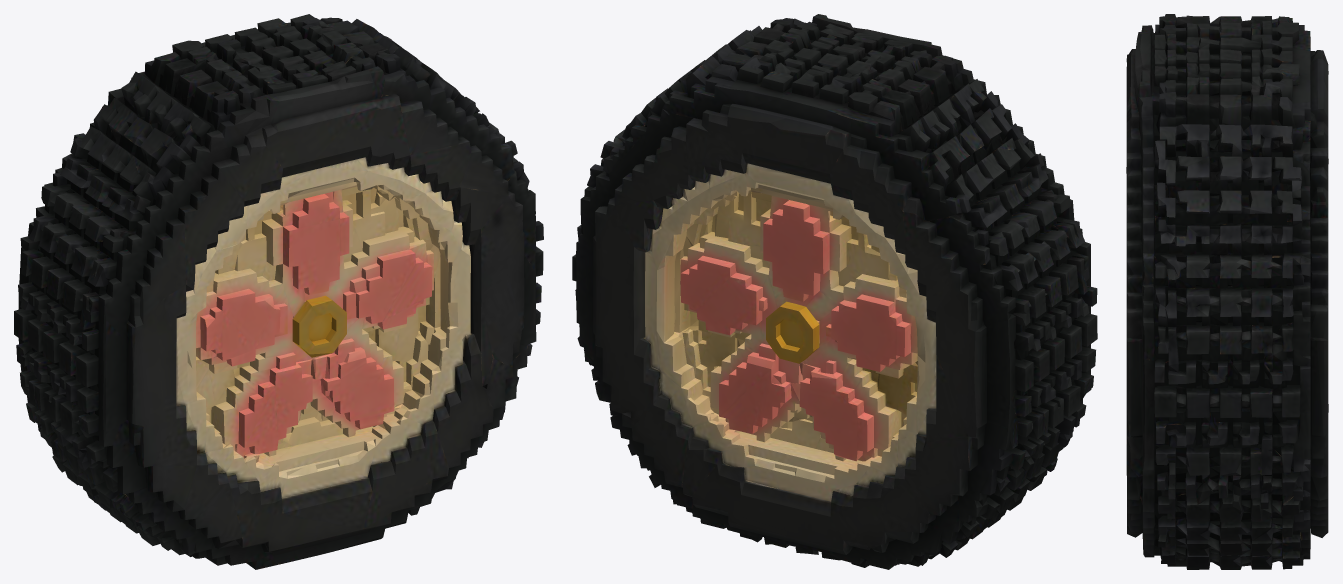
File: wheel-cute.glb
3 renders of one model, left to right at view 1: azimuth 30°, elevation 25°; view 2: azimuth 150°, elevation 25°; view 3: azimuth 270°, elevation 25°, orthographic.
Parts seen in each view (by area): view 1: model; view 2: model; view 3: model.
Part boxes in pixels (x1,y1,x2,y2): model: (14,14,543,569); model: (572,14,1097,569); model: (1126,14,1328,569).
Size of the model in its own units: 2 by 2 by 0.76.
1 material, 1 textured.
